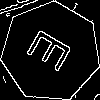E: (25, 27, 81, 79)
